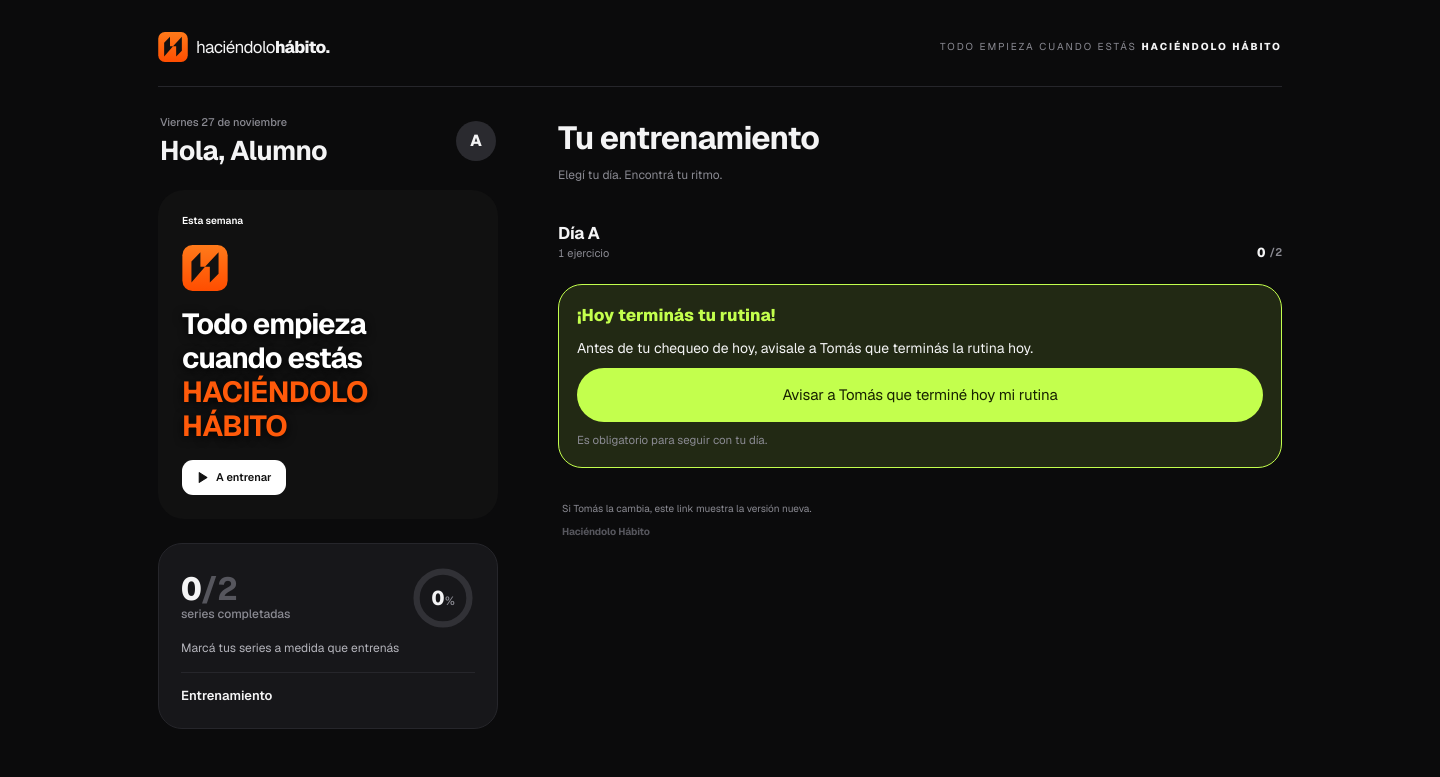
Test: registro del alumno en la rutina por link › el último día de la rutina pide avisar al entrenador antes del chequeo
Step 1. Click the button "Avisar a Tomás que terminé hoy mi rutina" → (920, 395), box [577,368,1263,422]
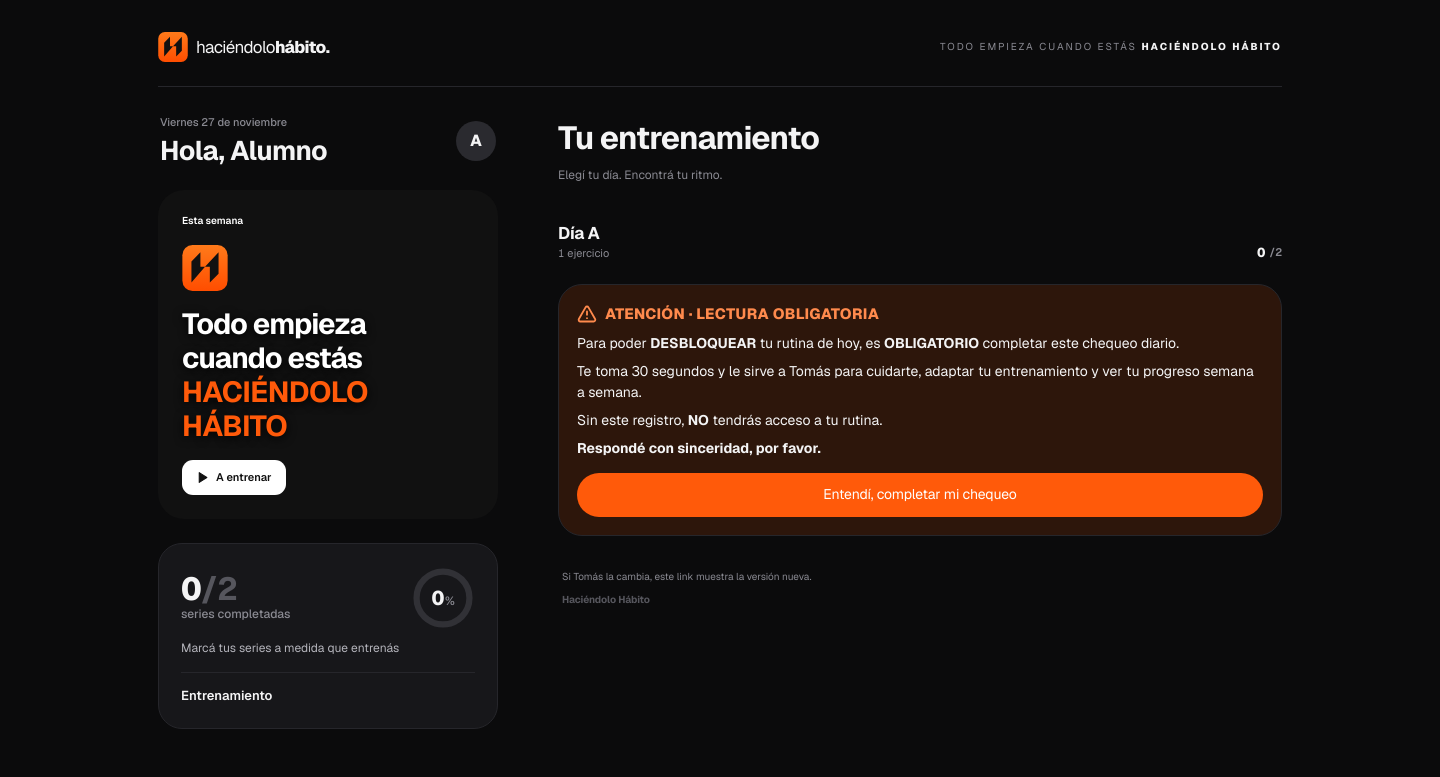
Result: the element with class "hhr-notice" is gone
Result: the message with class "hhr-must" is shown at [558,284,1282,536]
